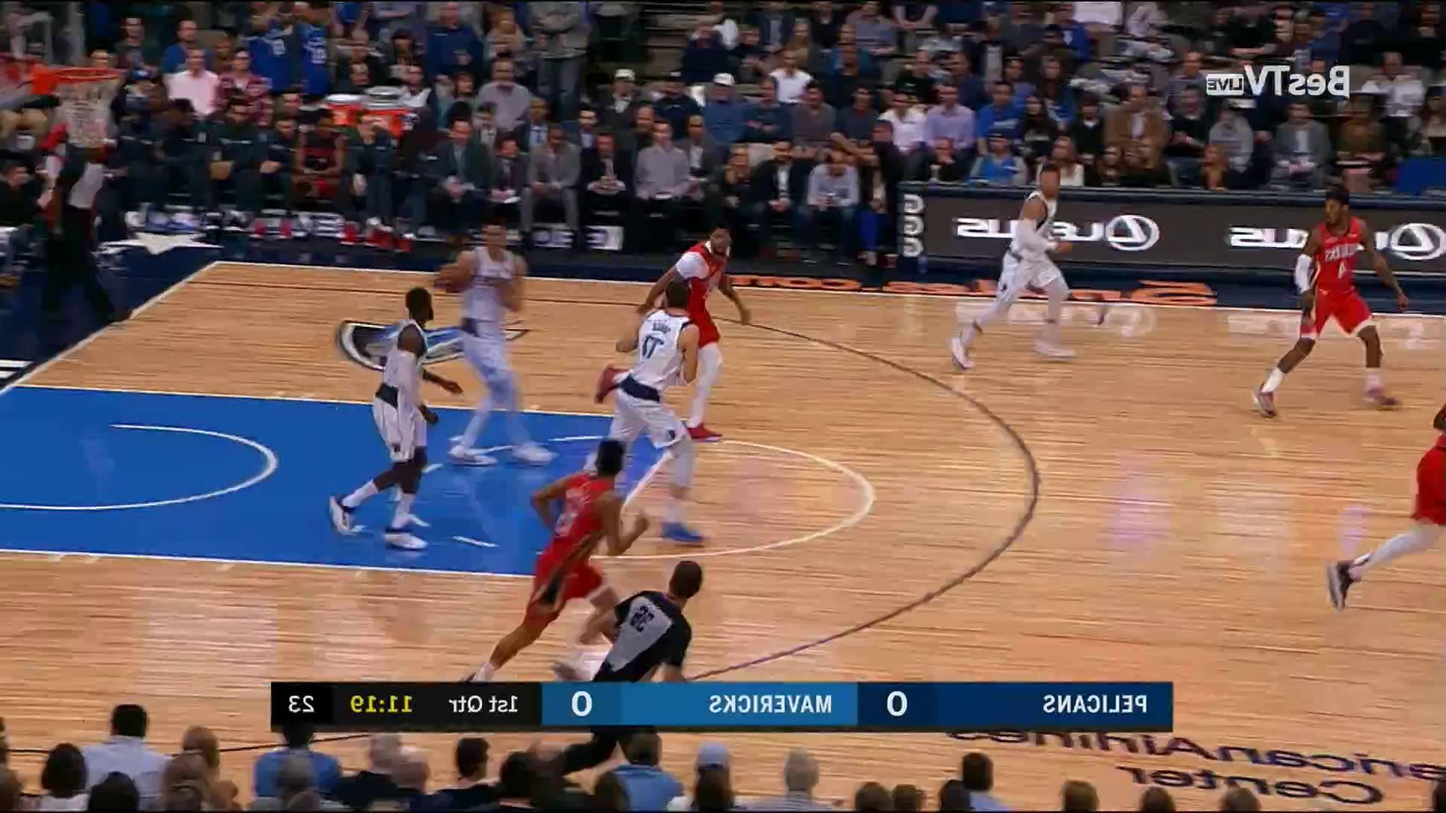basketball: (438, 260, 471, 294)
